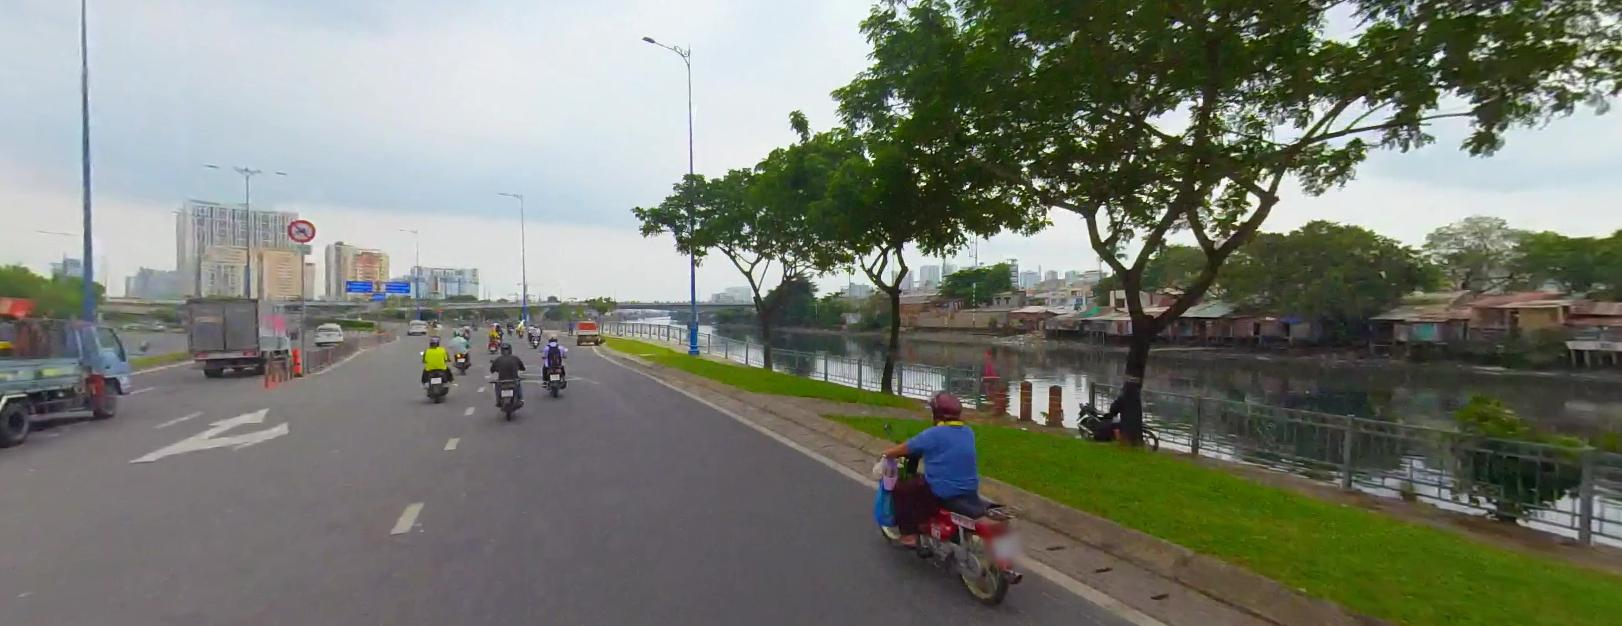Cam con lai: (287, 219, 314, 241), (288, 218, 314, 240)
